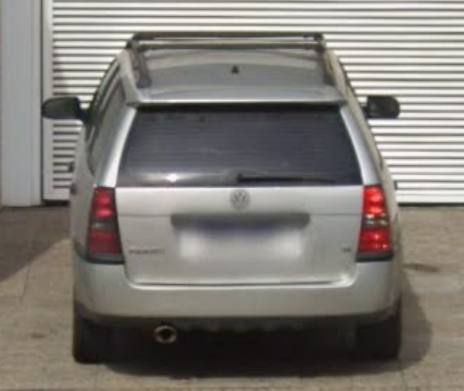car: (61, 36, 405, 367)
